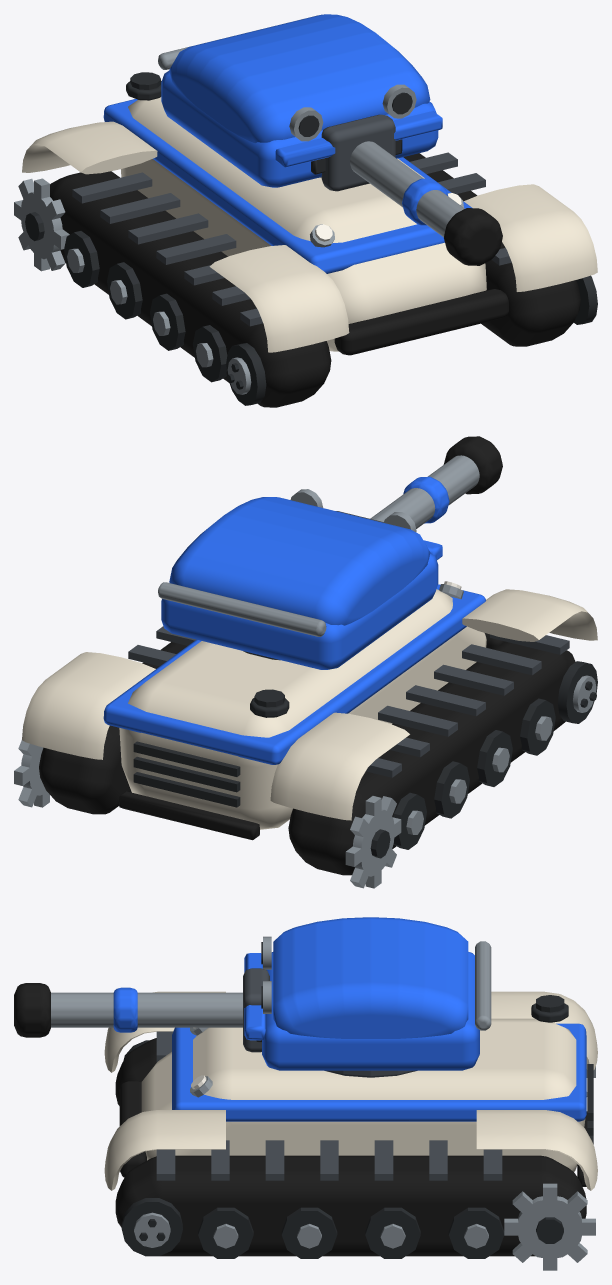
Rendered from light_tank.glb.
3 renders of one model, top to bottom at view 1: azimuth 30°, elevation 25°; view 2: azimuth 150°, elevation 25°; view 3: azimuth 270°, elevation 25°, orthographic. The views are drawn at different scales.
Visible parts, largest first — view 1: hull__M_CreamPlastic, turret__M_Team, gear__M_Licorice, hull__M_Team, tread_r__M_SmokePlastic, hull__M_Licorice, gear__M_Dark, barrel__M_SpringSteel, turret__M_SmokePlastic, sprocket_r__M_SpringSteel, barrel__M_Licorice, turret__M_SpringSteel (+8 smaller); view 2: hull__M_CreamPlastic, turret__M_Team, gear__M_Licorice, hull__M_Team, tread_r__M_SmokePlastic, gear__M_Dark, hull__M_Dark, turret__M_SpringSteel, sprocket_r__M_SpringSteel, hull__M_Licorice, barrel__M_SpringSteel, barrel__M_Licorice (+6 smaller); view 3: hull__M_CreamPlastic, turret__M_Team, gear__M_Licorice, hull__M_Team, gear__M_Dark, barrel__M_SpringSteel, tread_l__M_SmokePlastic, sprocket_l__M_SpringSteel, idler_l__M_Dark, turret__M_SpringSteel, gear__M_SpringSteel, barrel__M_Licorice (+8 smaller).
Boxes of the visible parts, x1=… form: hull__M_CreamPlastic: x1=22, y1=97, x2=597, y2=352; turret__M_Team: x1=161, y1=14, x2=442, y2=187; gear__M_Licorice: x1=50, y1=153, x2=580, y2=407; hull__M_Team: x1=103, y1=99, x2=472, y2=273; tread_r__M_SmokePlastic: x1=72, y1=172, x2=262, y2=326; hull__M_Licorice: x1=334, y1=289, x2=508, y2=355; gear__M_Dark: x1=64, y1=231, x2=227, y2=382; barrel__M_SpringSteel: x1=350, y1=141, x2=464, y2=237; turret__M_SmokePlastic: x1=321, y1=114, x2=395, y2=191; sprocket_r__M_SpringSteel: x1=14, y1=178, x2=69, y2=271; barrel__M_Licorice: x1=444, y1=208, x2=502, y2=265; turret__M_SpringSteel: x1=158, y1=15, x2=416, y2=141; hull__M_CreamPlastic: x1=22, y1=589, x2=597, y2=829; turret__M_Team: x1=161, y1=497, x2=442, y2=669; gear__M_Licorice: x1=39, y1=641, x2=575, y2=875; hull__M_Team: x1=103, y1=584, x2=485, y2=764; tread_r__M_SmokePlastic: x1=366, y1=634, x2=569, y2=777; gear__M_Dark: x1=393, y1=698, x2=555, y2=849; hull__M_Dark: x1=133, y1=741, x2=240, y2=807; turret__M_SpringSteel: x1=158, y1=489, x2=416, y2=636; sprocket_r__M_SpringSteel: x1=345, y1=796, x2=401, y2=888; hull__M_Licorice: x1=119, y1=633, x2=504, y2=840; barrel__M_SpringSteel: x1=370, y1=455, x2=479, y2=528; barrel__M_Licorice: x1=443, y1=436, x2=502, y2=494; hull__M_CreamPlastic: x1=104, y1=991, x2=597, y2=1190; turret__M_Team: x1=244, y1=917, x2=479, y2=1070; gear__M_Licorice: x1=115, y1=1038, x2=586, y2=1256; hull__M_Team: x1=172, y1=1023, x2=586, y2=1121; gear__M_Dark: x1=198, y1=1207, x2=504, y2=1258; barrel__M_SpringSteel: x1=51, y1=992, x2=242, y2=1027; tread_l__M_SmokePlastic: x1=156, y1=1140, x2=502, y2=1180; sprocket_l__M_SpringSteel: x1=504, y1=1183, x2=595, y2=1270; idler_l__M_Dark: x1=121, y1=1198, x2=182, y2=1256; turret__M_SpringSteel: x1=263, y1=936, x2=491, y2=1030; gear__M_SpringSteel: x1=213, y1=1224, x2=488, y2=1248; barrel__M_Licorice: x1=14, y1=983, x2=50, y2=1037.
Size of the model in its own units: 0.736 by 0.4845 by 1.07.
